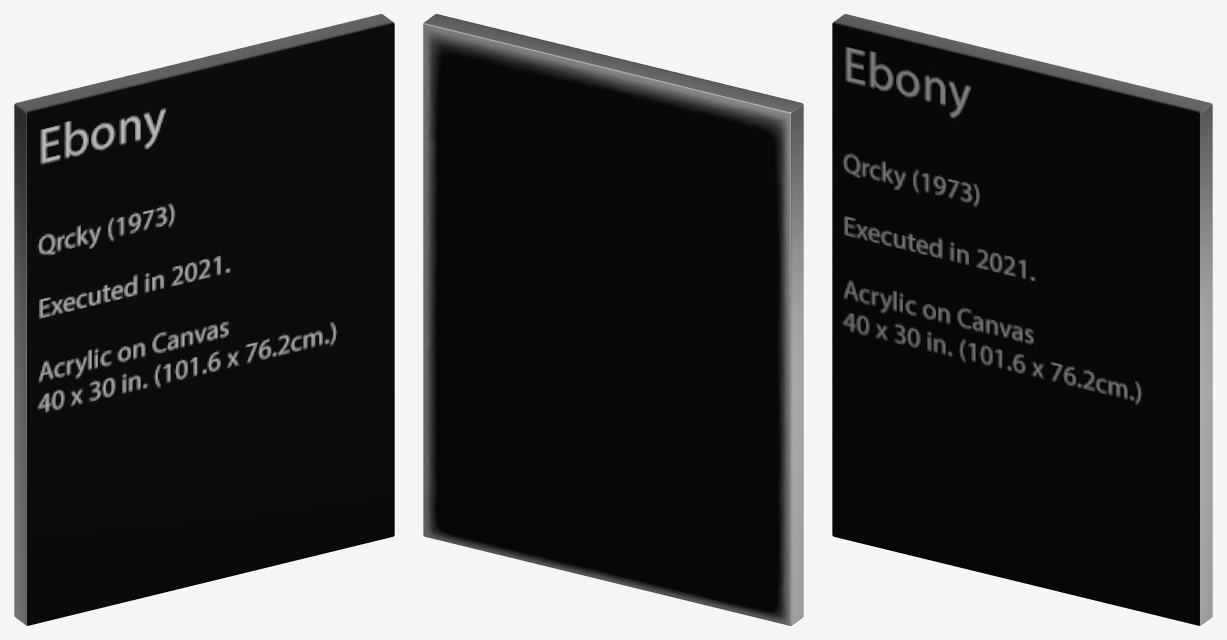
Rendered from ebony.glb.
3 views of the same model, side by side, from view 1: azimuth 30°, elevation 25°; view 2: azimuth 150°, elevation 25°; view 3: azimuth 330°, elevation 25° (orthographic).
Parts seen in each view (by area): view 1: Canvas; view 2: Canvas; view 3: Canvas.
Boxes of the visible parts, x1,y1,x2,y2 form: Canvas: (14, 14, 394, 625); Canvas: (423, 14, 803, 625); Canvas: (832, 14, 1212, 625).
Size of the model in its own units: 1.56 by 2.08 by 0.0956.
1 material, 1 textured.
